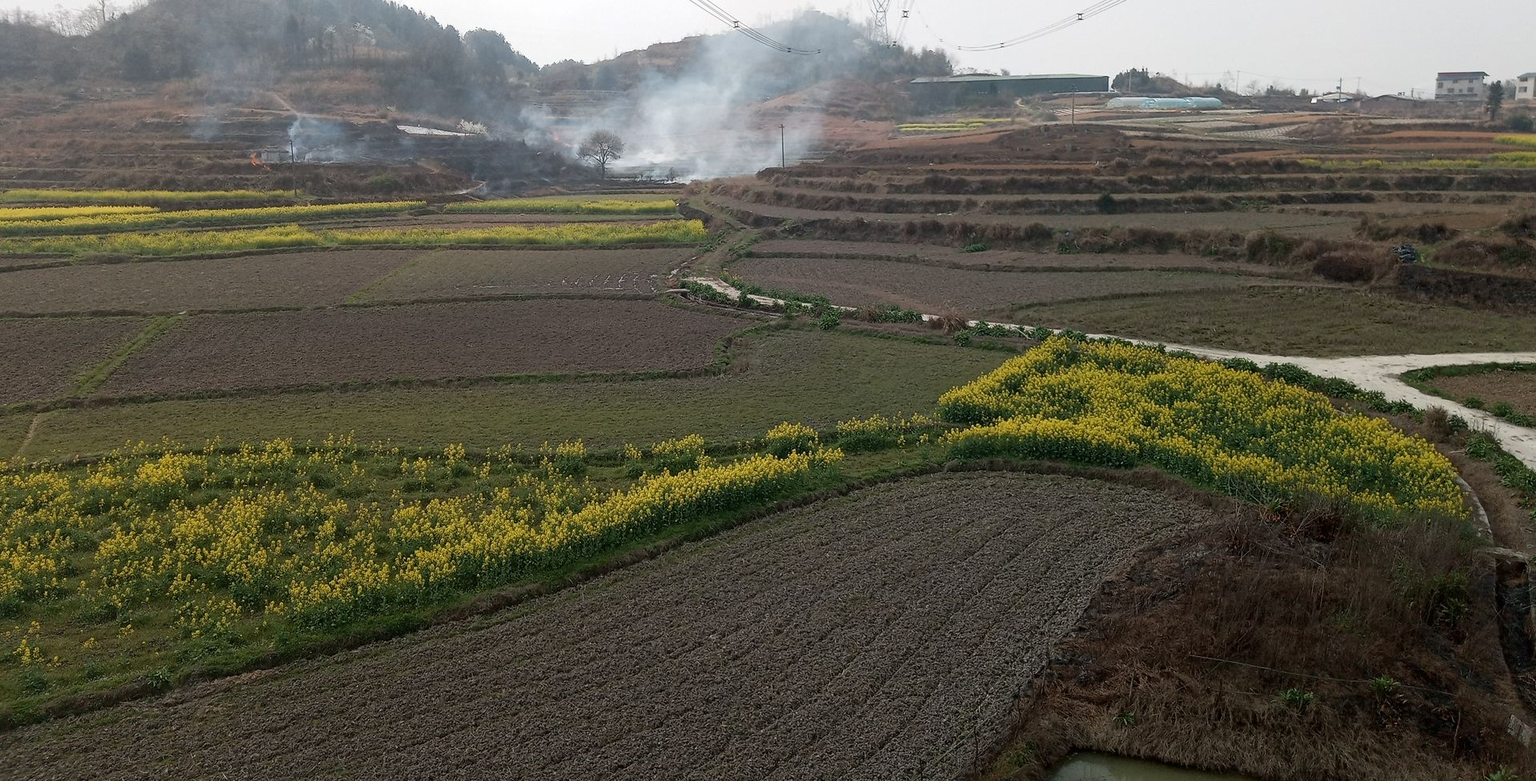山火: (249, 152, 271, 171)
烟雾: (451, 0, 874, 200), (244, 66, 451, 170), (174, 0, 288, 147)
